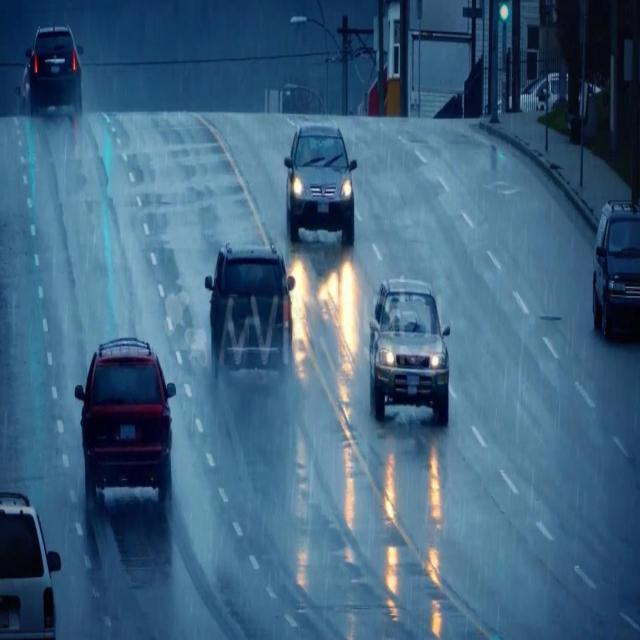Car: (74, 323, 177, 525), (205, 234, 299, 402), (366, 269, 454, 422), (280, 104, 356, 254), (0, 471, 58, 640), (588, 191, 640, 337), (20, 12, 82, 127), (491, 62, 595, 118)
